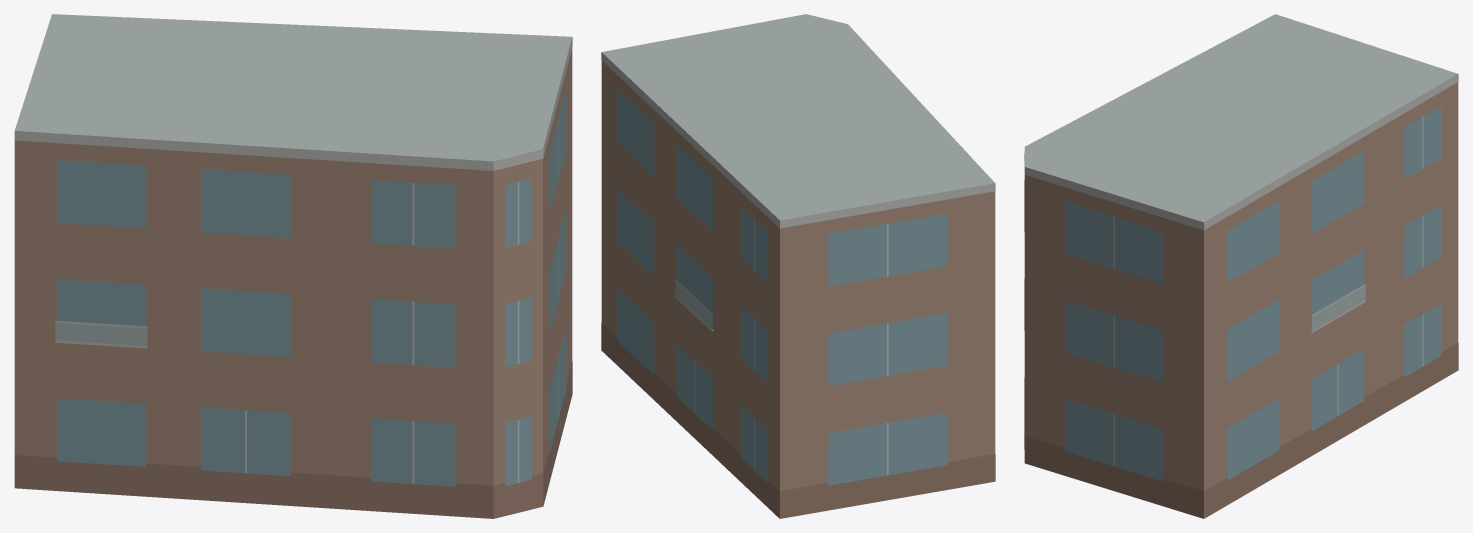
Rendered from survey-upis-32642398.glb.
3 renders of one model, left to right at view 1: azimuth 30°, elevation 25°; view 2: azimuth 150°, elevation 25°; view 3: azimuth 270°, elevation 25°, orthographic. The views are drawn at different scales.
Visible parts, largest first — view 1: survey-upis-32642398.tmp; view 2: survey-upis-32642398.tmp; view 3: survey-upis-32642398.tmp.
Boxes of the visible parts, x1=… form: survey-upis-32642398.tmp: x1=14, y1=14, x2=572, y2=518; survey-upis-32642398.tmp: x1=601, y1=14, x2=995, y2=518; survey-upis-32642398.tmp: x1=1024, y1=14, x2=1458, y2=518.
Size of the model in its own units: 13.8 by 9.15 by 12.15.
